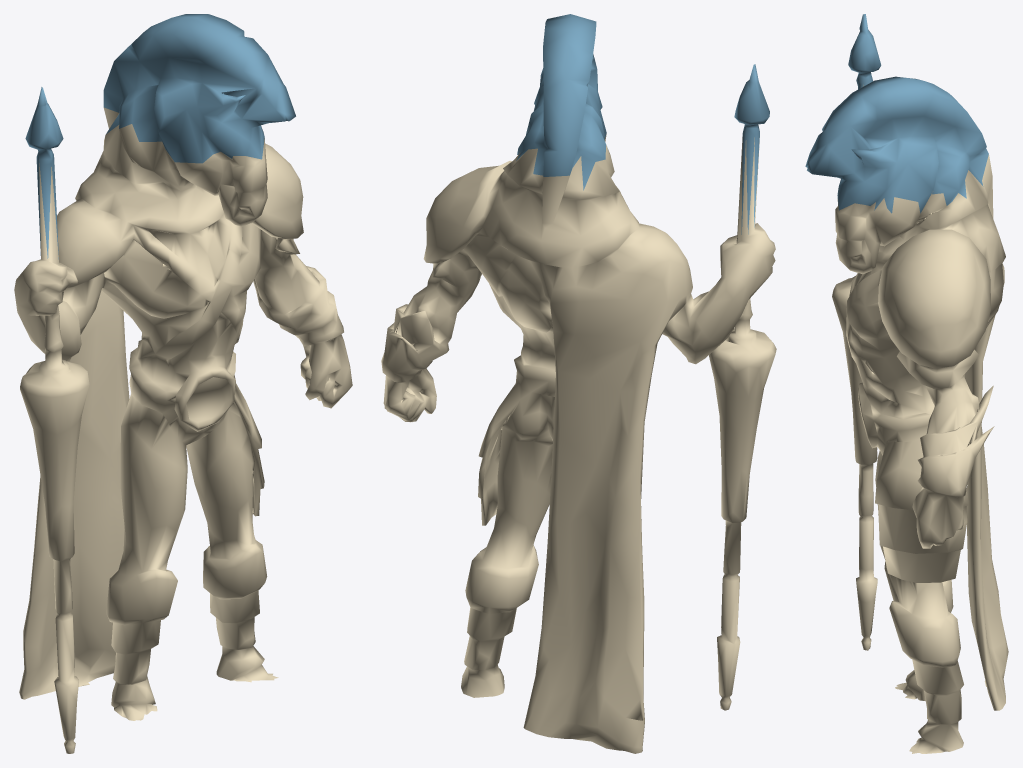
File: original-knight.glb
The picture shows the model from 3 angles, left to right: view 1: azimuth 30°, elevation 25°; view 2: azimuth 150°, elevation 25°; view 3: azimuth 270°, elevation 25°; orthographic projection. The views are drawn at different scales.
Visible parts, largest first — view 1: Original_sculpt.003; view 2: Original_sculpt.003; view 3: Original_sculpt.003.
Boxes of the visible parts, x1,y1,x2,y2 form: Original_sculpt.003: (14, 14, 352, 753); Original_sculpt.003: (381, 14, 776, 753); Original_sculpt.003: (805, 14, 1008, 753).
Bounding box in the file's own units: 0.6729 × 1.22 × 0.3553.
